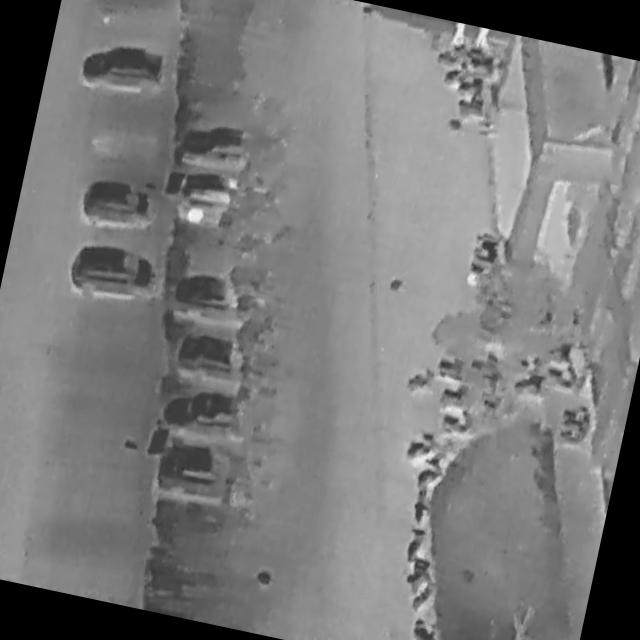person: (449, 22, 470, 49), (473, 27, 494, 54)
